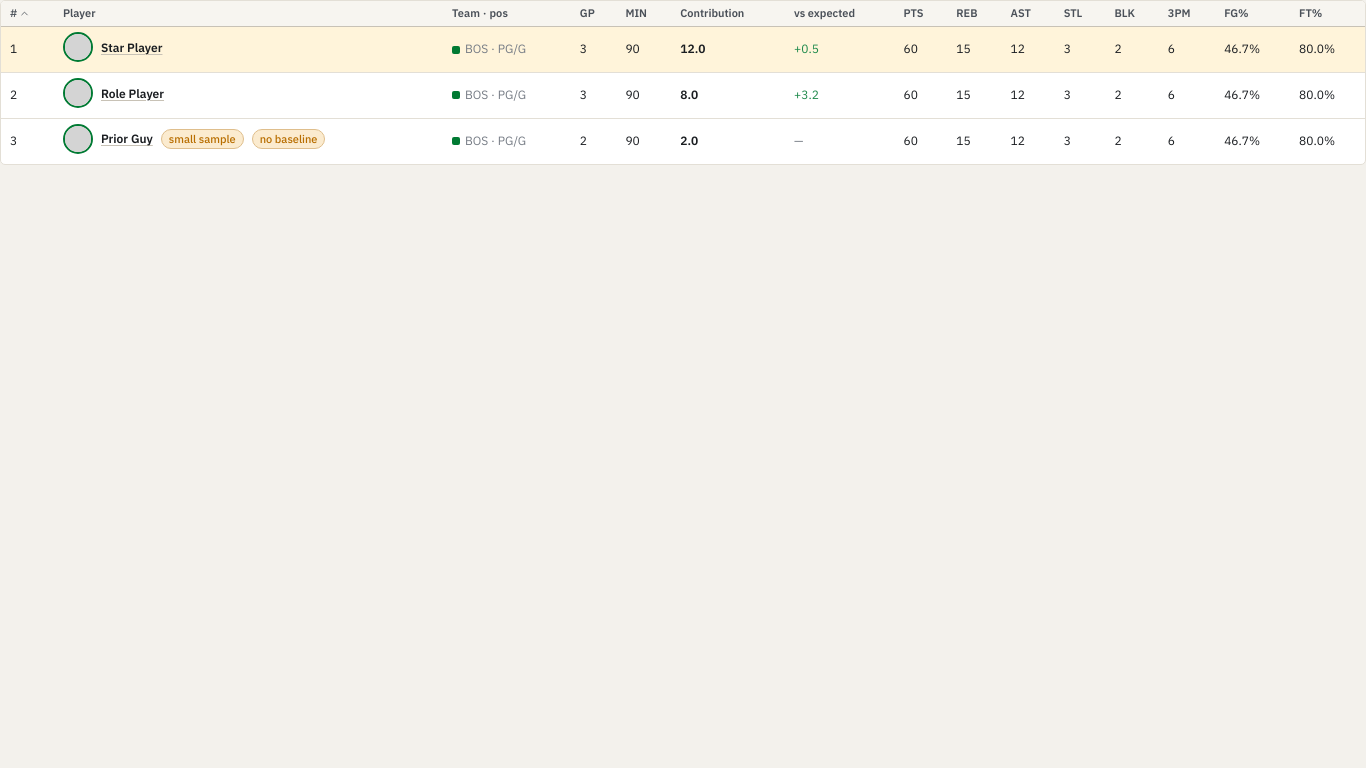
Test: PerformerTable drawer and league categories › marks turnovers as not scored when the league has no TOV category
The width and height of the screenshot is (1366, 768).
Click the button with aria-label "details for Star Player".
click(132, 47)  # box [101,40,162,55]
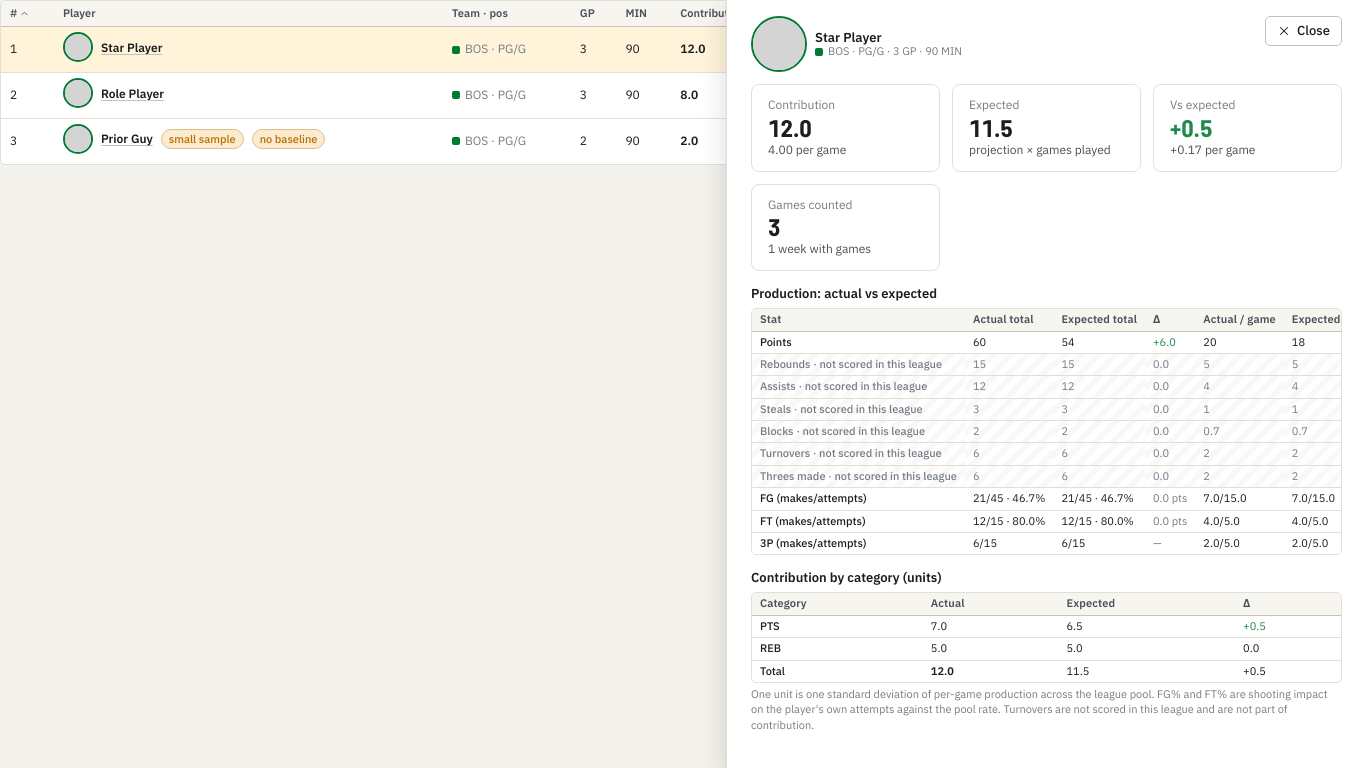
Expected: the dialog with test id "performer-detail" shows "not scored in this league", [810,357,942,371]
